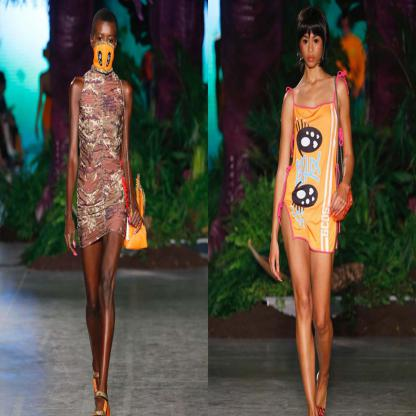Not_Wearing_Mask: (300, 31, 323, 68)
Wearing_Mask: (92, 31, 116, 67)
